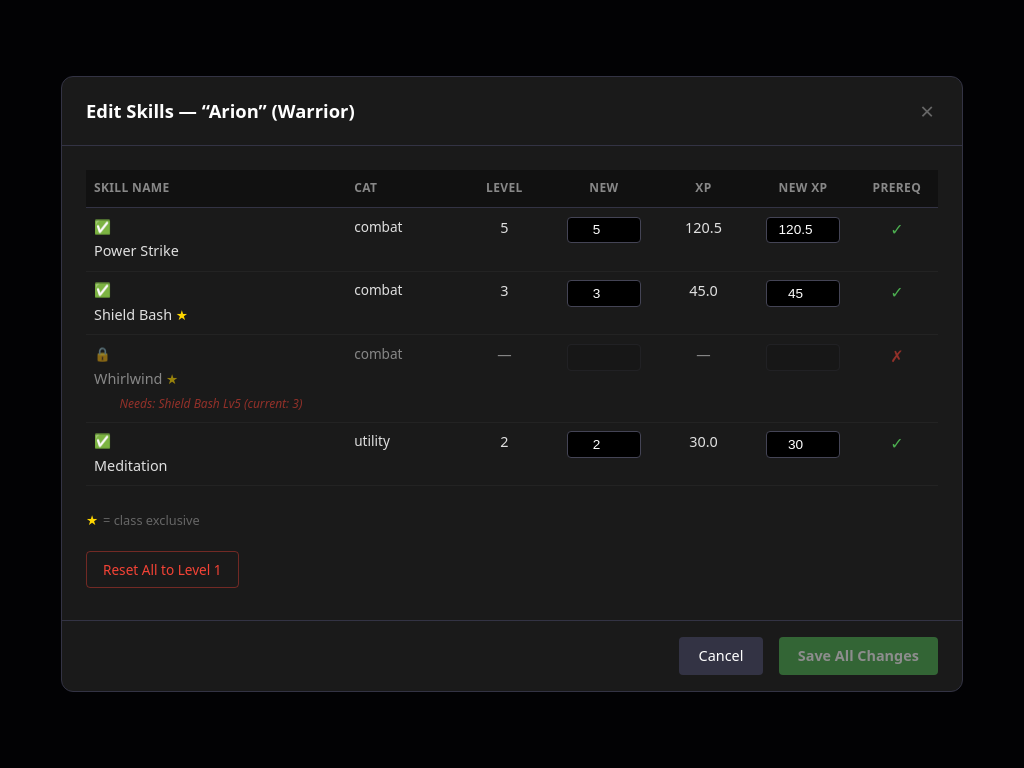
Test: SkillEditorModal › reset all requires double confirmation
Note: First click opens first confirmation
Click the button "Reset All to Level 1".
click(162, 569)  # box [86,551,239,588]
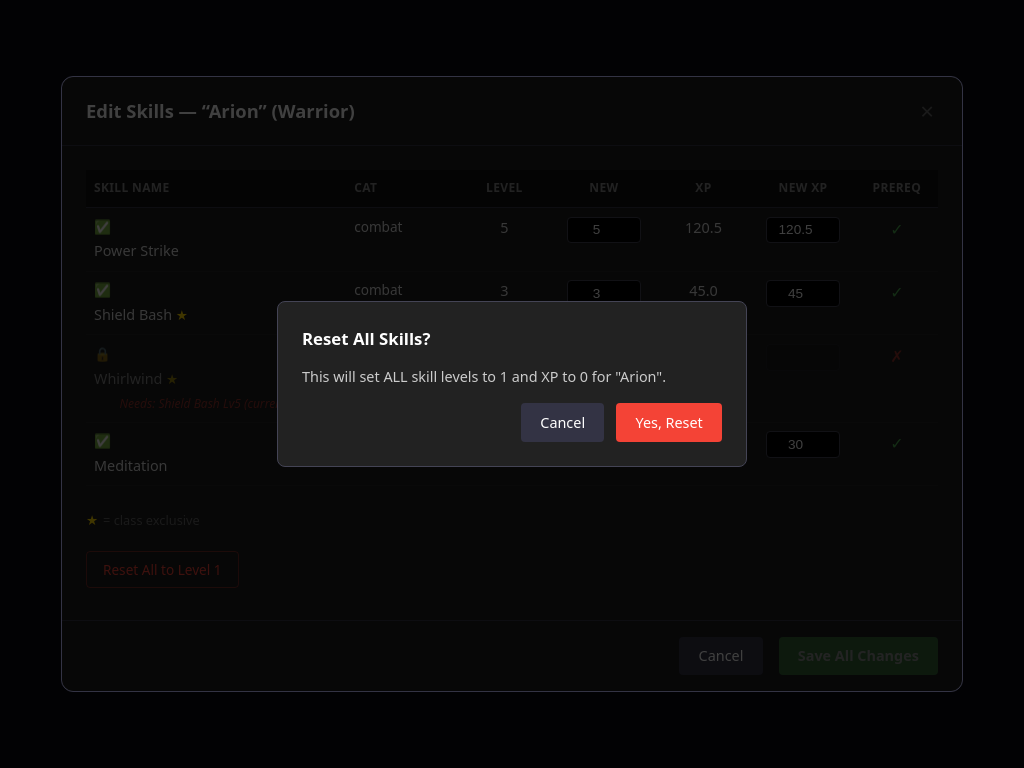
Now the heading "Reset All Skills?" is shown, box [302,327,430,350]
Now the button "Yes, Reset" is shown
Note: Second click triggers step 2
Click the button "Yes, Reset".
click(669, 423)  # box [616,404,722,442]
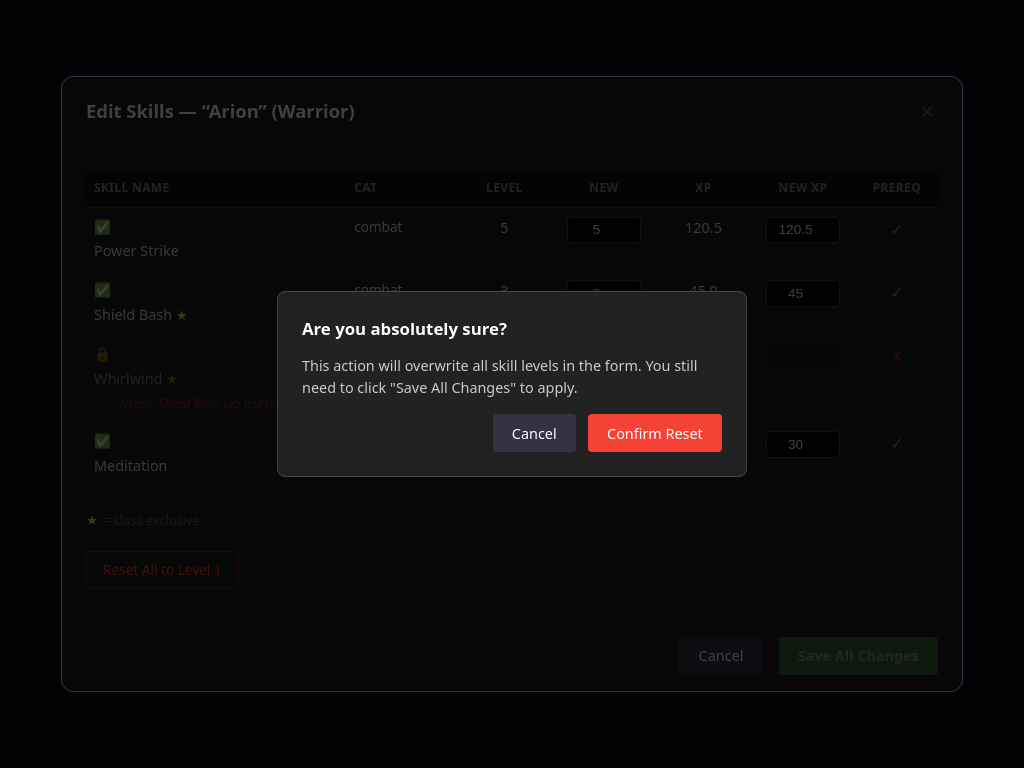
Now the heading "Are you absolutely sure?" is shown, box [302,316,507,340]
Now the button "Confirm Reset" is shown, box [588,414,722,452]
